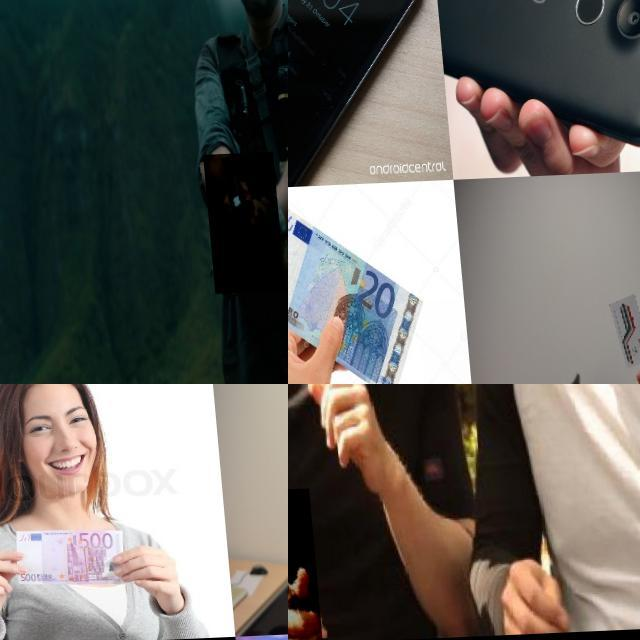-: (288, 489, 329, 640)
gun-knife-thesis - v11 Yolov5 augmented: (196, 156, 276, 296)
